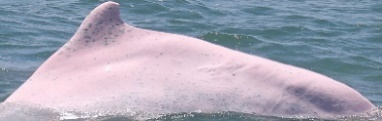fin: (1, 1, 382, 120)
